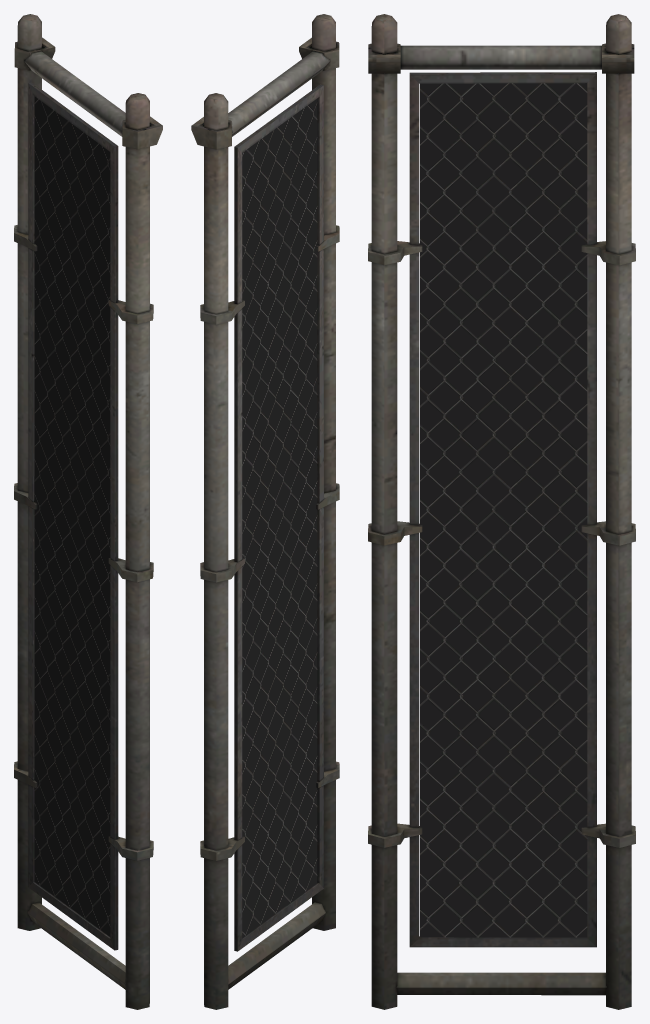
Rendered from exterior_fence_notbarbed002a.glb.
3 views of the same model, side by side, from view 1: azimuth 30°, elevation 25°; view 2: azimuth 150°, elevation 25°; view 3: azimuth 270°, elevation 25° (orthographic). The views are drawn at different scales.
Visible parts, largest first — view 1: exterior_fence_notbarbed002a; view 2: exterior_fence_notbarbed002a; view 3: exterior_fence_notbarbed002a.
Part boxes in pixels (x1,y1,x2,y2): exterior_fence_notbarbed002a: [14, 14, 162, 1009]; exterior_fence_notbarbed002a: [191, 14, 339, 1009]; exterior_fence_notbarbed002a: [368, 14, 635, 1009].
Size of the model in its own units: 0.0963 by 2.51 by 0.6183.
2 materials, 2 textured.
